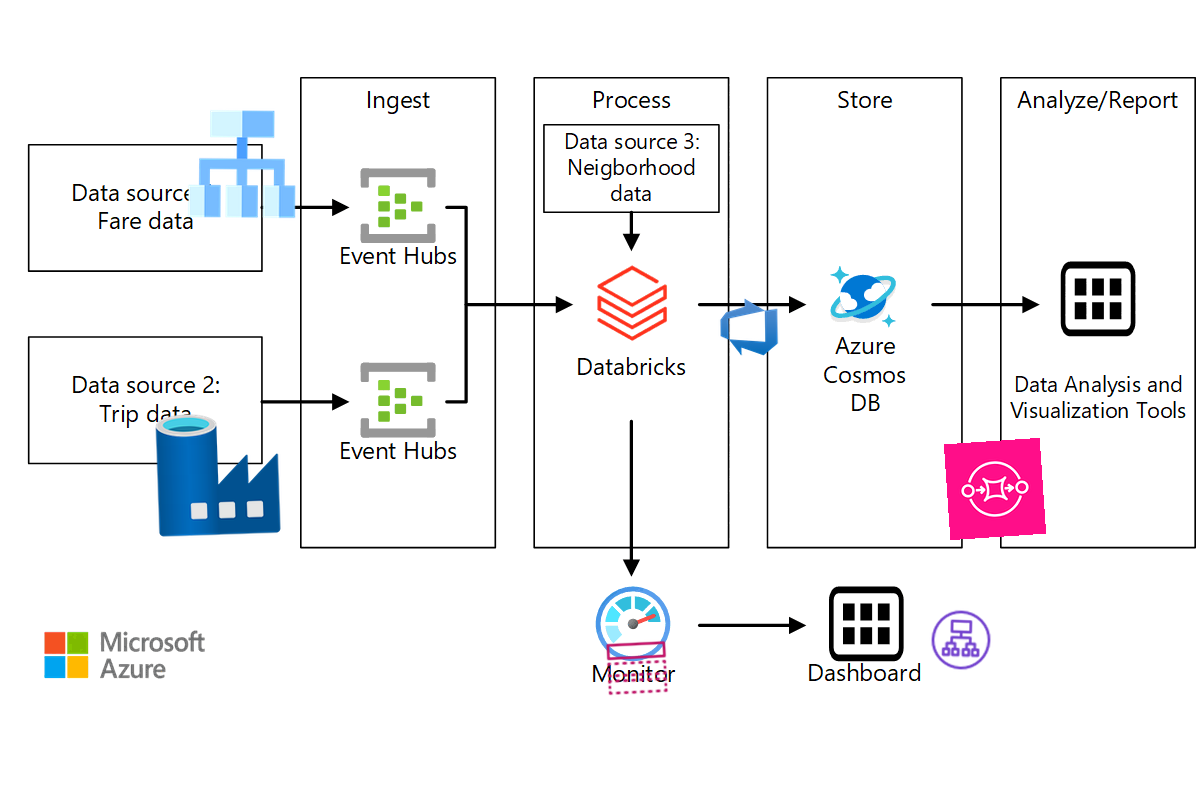aws_amazon_simple_queue_service: (943, 437, 1047, 541)
aws_elastic_load_balancing_application_load_balancer: (928, 607, 994, 673)
aws_simple_notification_service_topic: (603, 634, 671, 702)
azure_data_factories: (151, 407, 285, 541)
azure_devops: (716, 294, 782, 360)
gcp_cloud_load_balancing: (177, 99, 307, 229)
